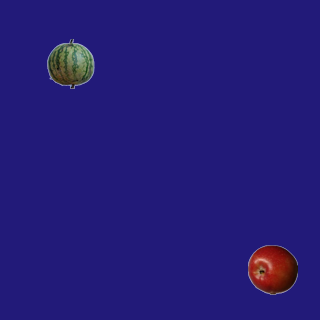Apple Braeburn: (247, 244, 297, 294)
Watermelon: (45, 38, 95, 88)
